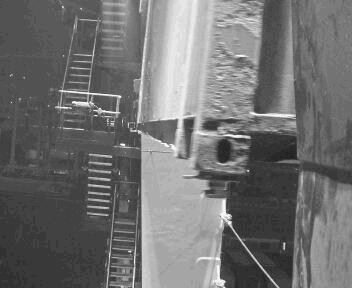twist_lock_1: (192, 165, 246, 208)
